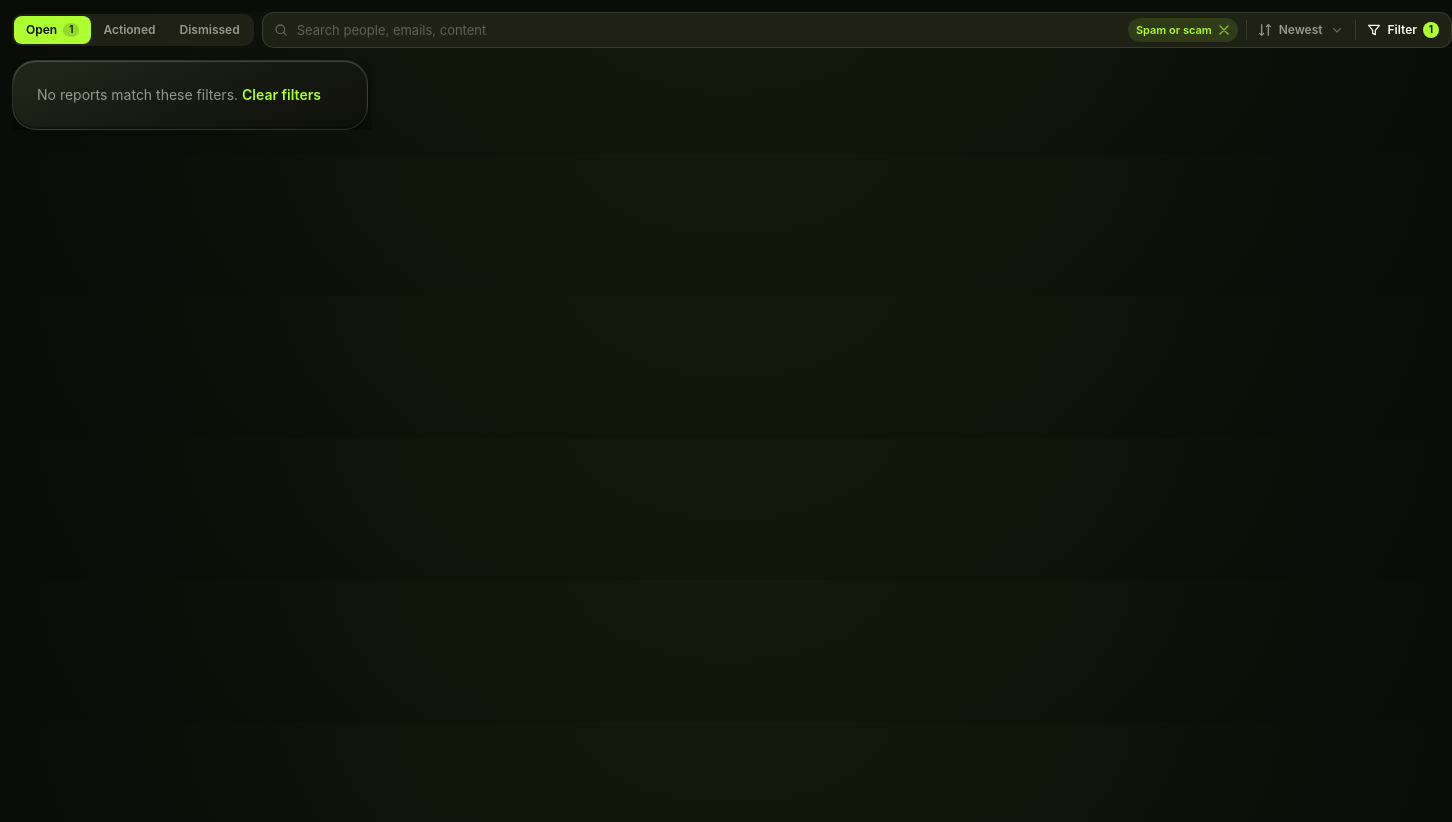
Test: no matches offers a one-click reset
The width and height of the screenshot is (1452, 822).
Check: the text "No reports match these filters. Clear filters" is shown, box [12,60,368,130]
Click the button "Clear filters".
click(281, 95)  # box [242,85,321,105]
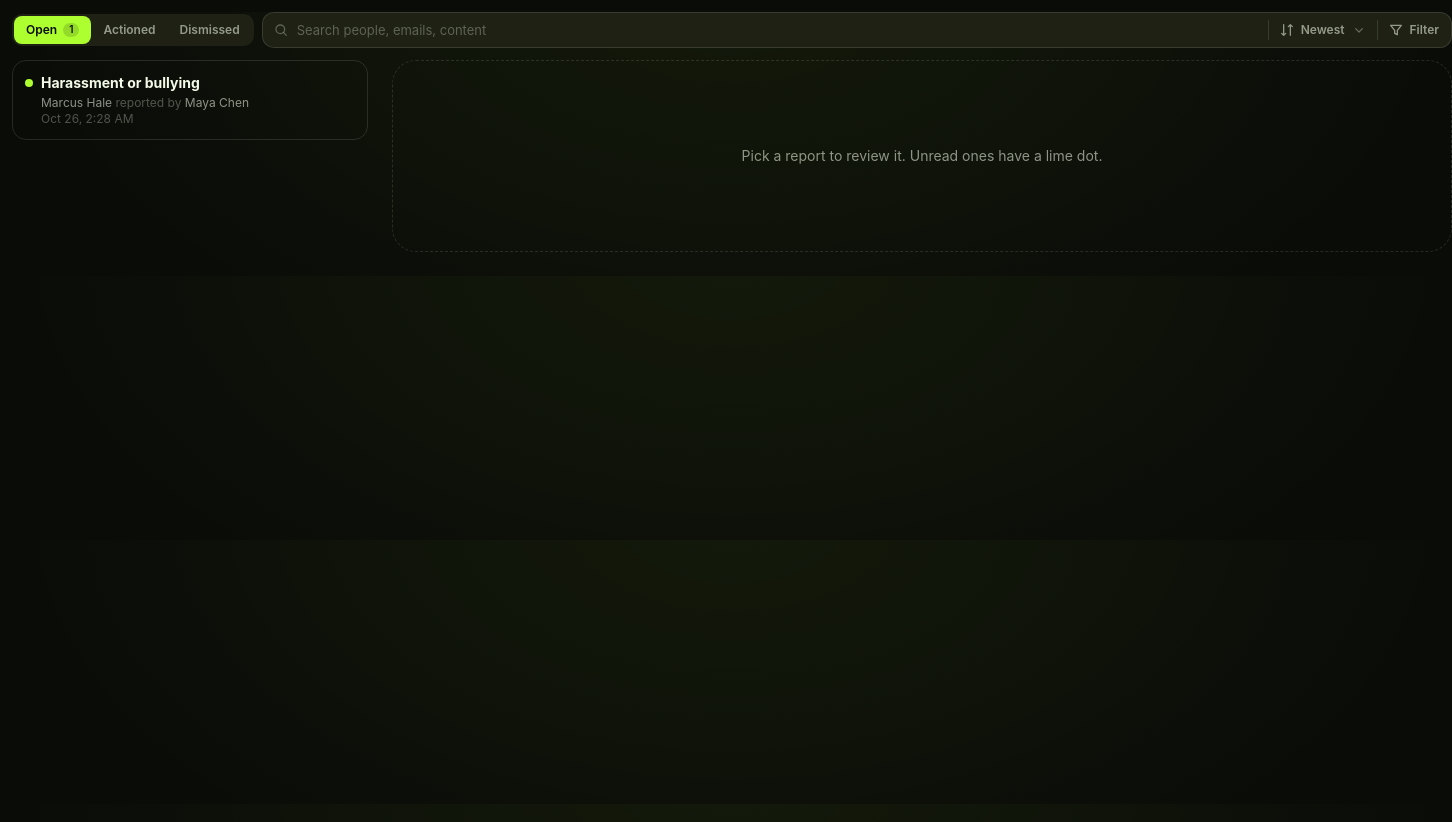
Check: the list named "Reports" shows "Marcus Hale", box [13,61,367,139]
